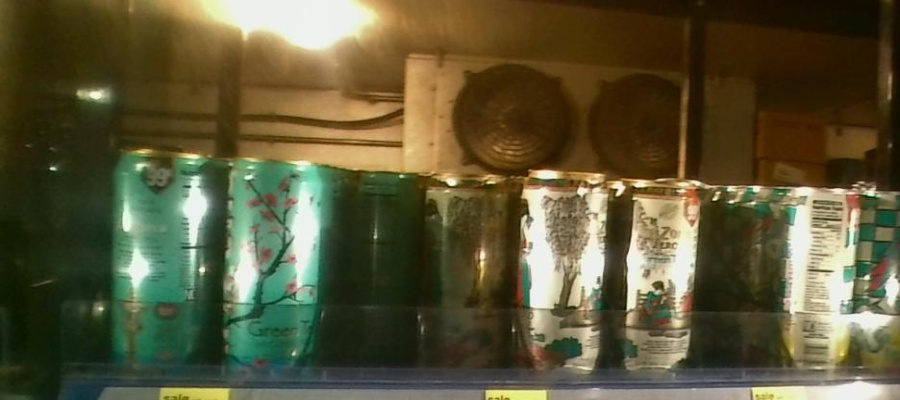bottle: (107, 133, 218, 376), (221, 143, 329, 379), (517, 163, 608, 316), (614, 178, 704, 313), (421, 169, 502, 310), (779, 181, 862, 315), (350, 163, 410, 288)
